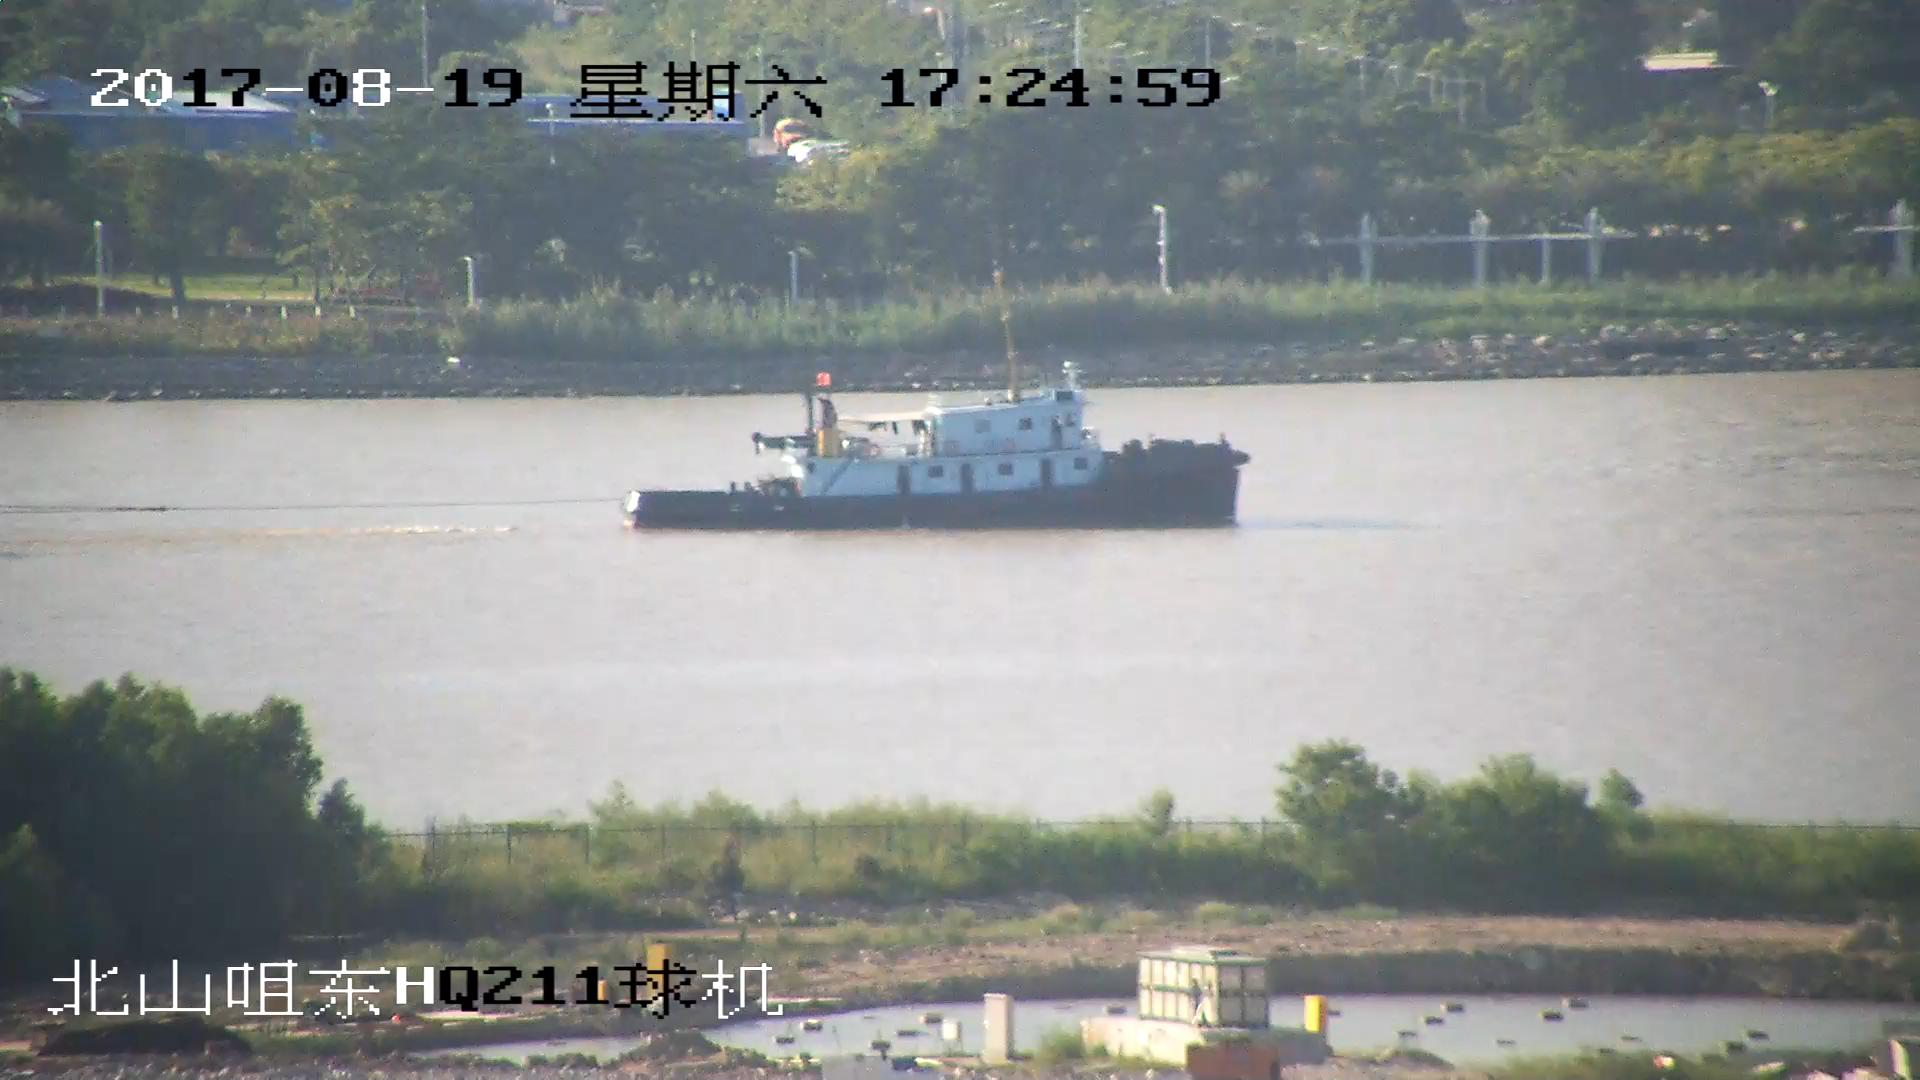fishing boat: (627, 379, 1248, 534)
